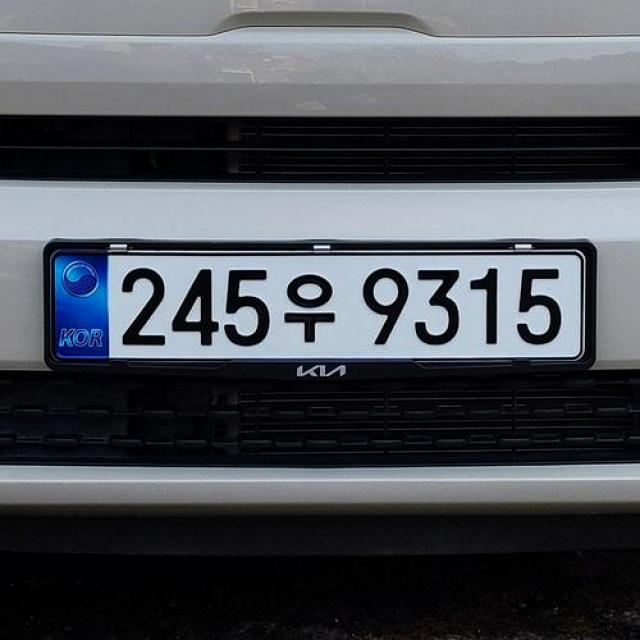illegal_plate: (41, 238, 598, 390)
